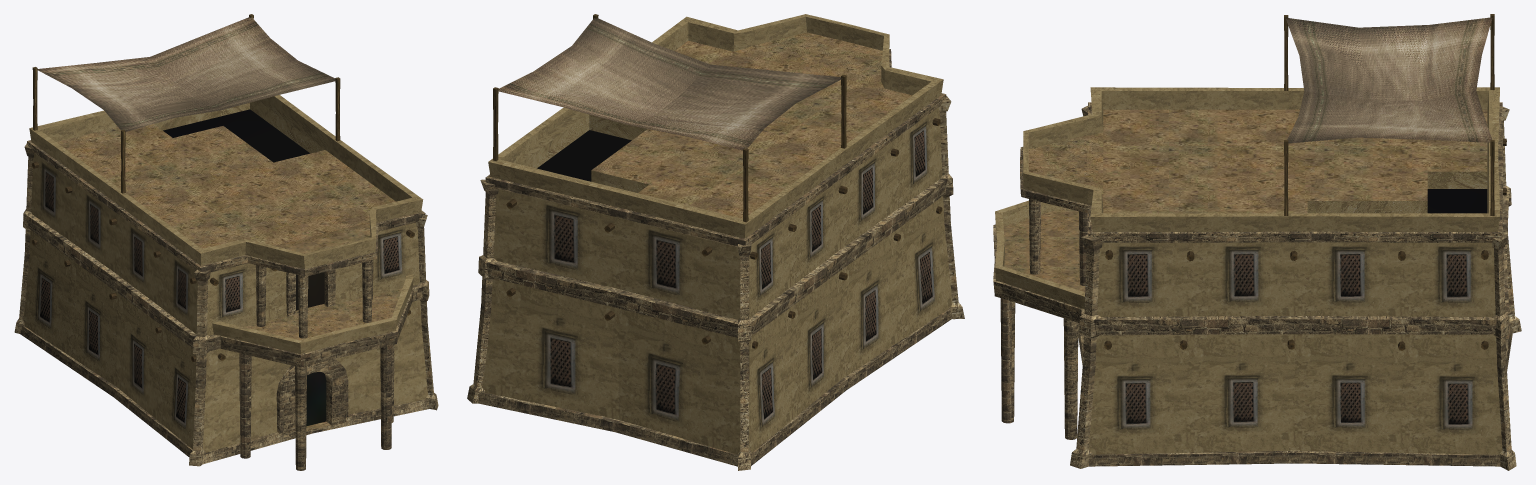
Rendered from desert_house.obj.
3 renders of one model, left to right at view 1: azimuth 30°, elevation 25°; view 2: azimuth 150°, elevation 25°; view 3: azimuth 270°, elevation 25°, orthographic. The views are drawn at different scales.
Parts seen in each view (by area): view 1: obj4, obj3, obj1, obj2, obj9, obj7, obj5, obj8, obj6; view 2: obj4, obj2, obj3, obj9, obj1, obj8; view 3: obj4, obj3, obj2, obj1, obj9, obj7, obj8.
Part boxes in pixels (<box>): obj4: <box>23,109,419,449</box>; obj3: <box>56,124,402,431</box>; obj1: <box>29,95,427,452</box>; obj2: <box>14,140,438,466</box>; obj9: <box>37,17,335,131</box>; obj7: <box>239,260,394,470</box>; obj5: <box>276,359,348,437</box>; obj8: <box>32,14,414,361</box>; obj6: <box>286,269,335,316</box>; obj4: <box>482,107,952,454</box>; obj2: <box>467,49,964,470</box>; obj3: <box>591,32,911,218</box>; obj9: <box>498,18,842,150</box>; obj1: <box>488,14,943,238</box>; obj8: <box>493,14,942,348</box>; obj4: <box>1088,189,1509,454</box>; obj3: <box>1003,109,1487,291</box>; obj2: <box>993,102,1521,470</box>; obj1: <box>995,87,1499,309</box>; obj9: <box>1286,17,1492,143</box>; obj7: <box>1000,199,1087,439</box>; obj8: <box>1084,14,1506,350</box>.
Bounding box in the file's own units: 13.86 × 14.07 × 21.08.
6 materials, 6 textured.
